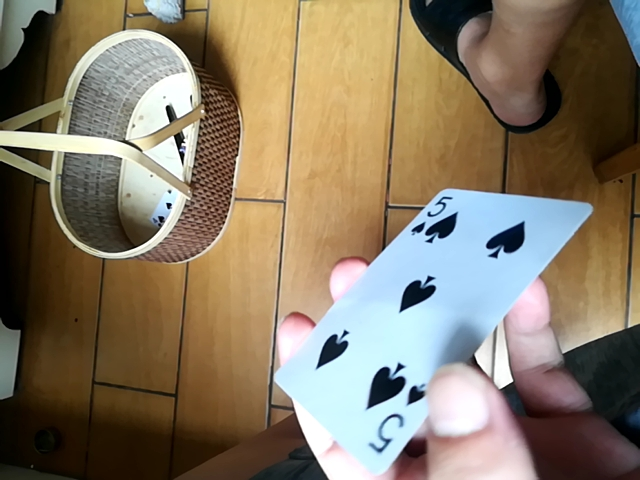ht 5: (274, 188, 594, 477)
